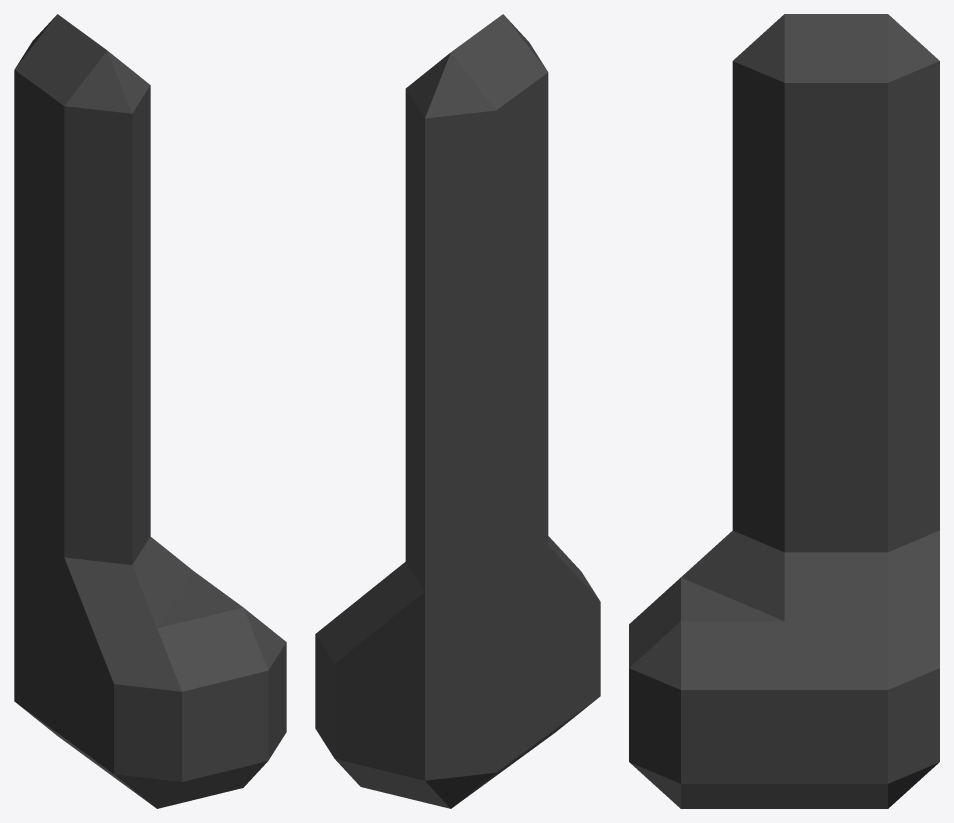
Rendered from Arm_R.glb.
The picture shows the model from 3 angles, left to right: view 1: azimuth 30°, elevation 25°; view 2: azimuth 150°, elevation 25°; view 3: azimuth 270°, elevation 25°; orthographic projection. The views are drawn at different scales.
Parts seen in each view (by area): view 1: pl0; view 2: pl0; view 3: pl0.
Part boxes in pixels (left/top/right/bottom): pl0: left=14, top=14, right=286, bottom=808; pl0: left=315, top=14, right=600, bottom=808; pl0: left=629, top=14, right=939, bottom=808.
Size of the model in its own units: 0.2 by 0.8 by 0.3.
Materials: 1 (1 with a texture image).
